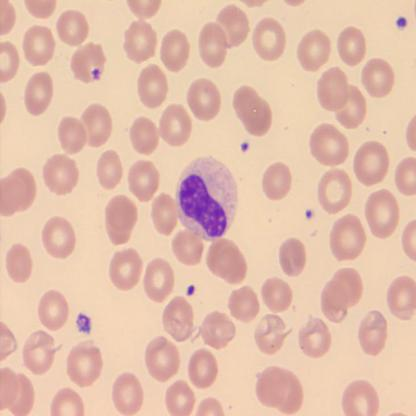Metamyelocyte: (172, 152, 242, 243)
